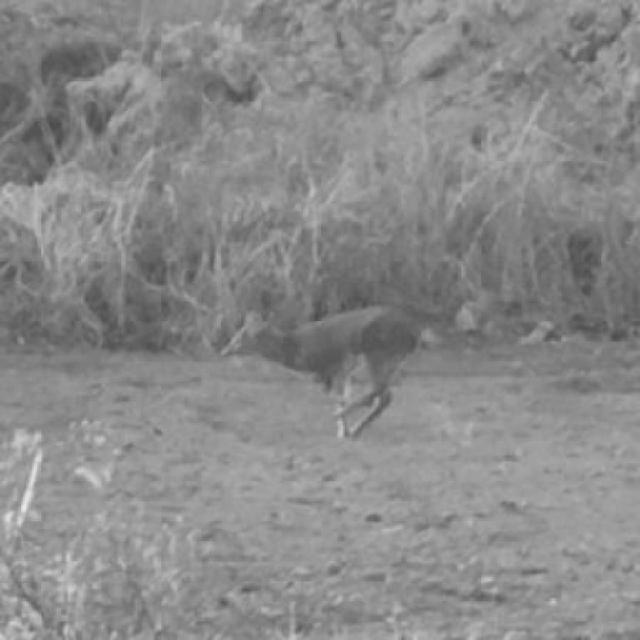Deer: (204, 301, 423, 444)
